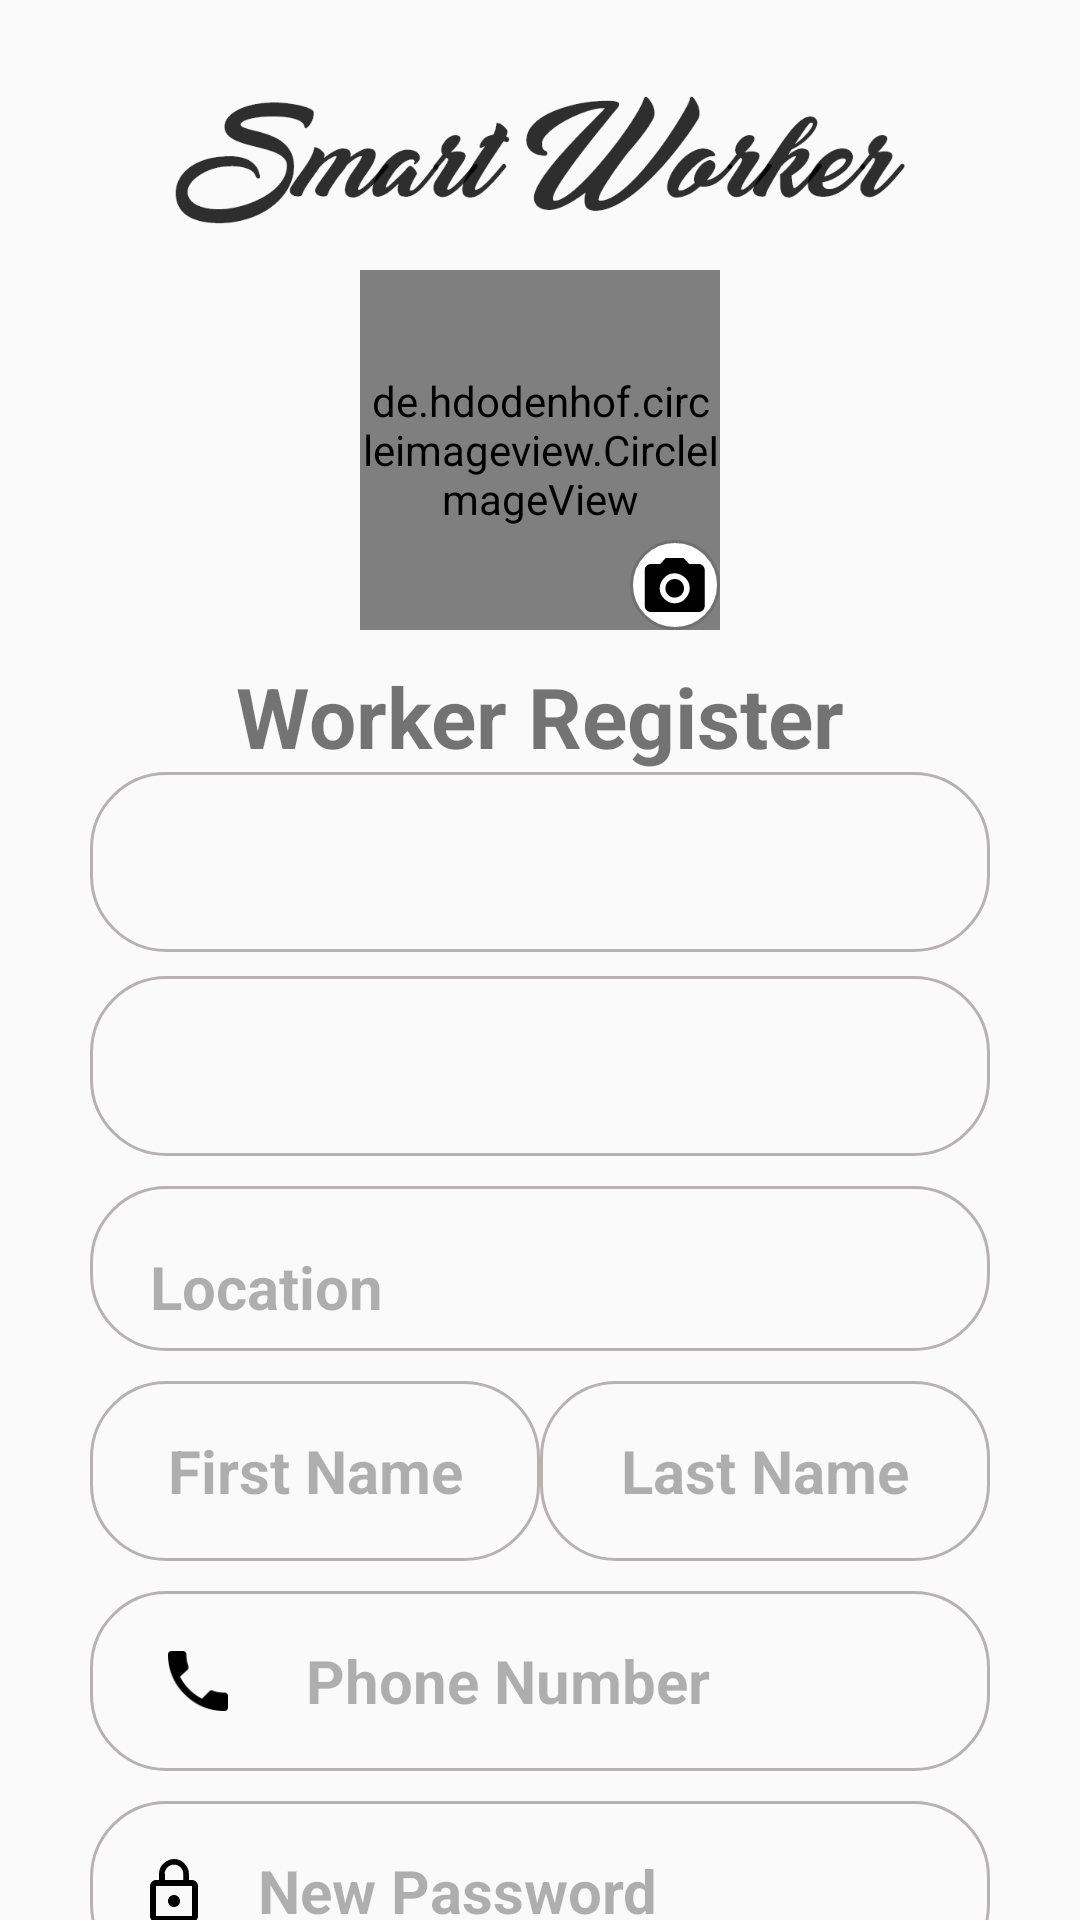

Icons on this 1080x1920 Android screen, each with the point to tap as point (x, y):
photo: point (675, 585)
